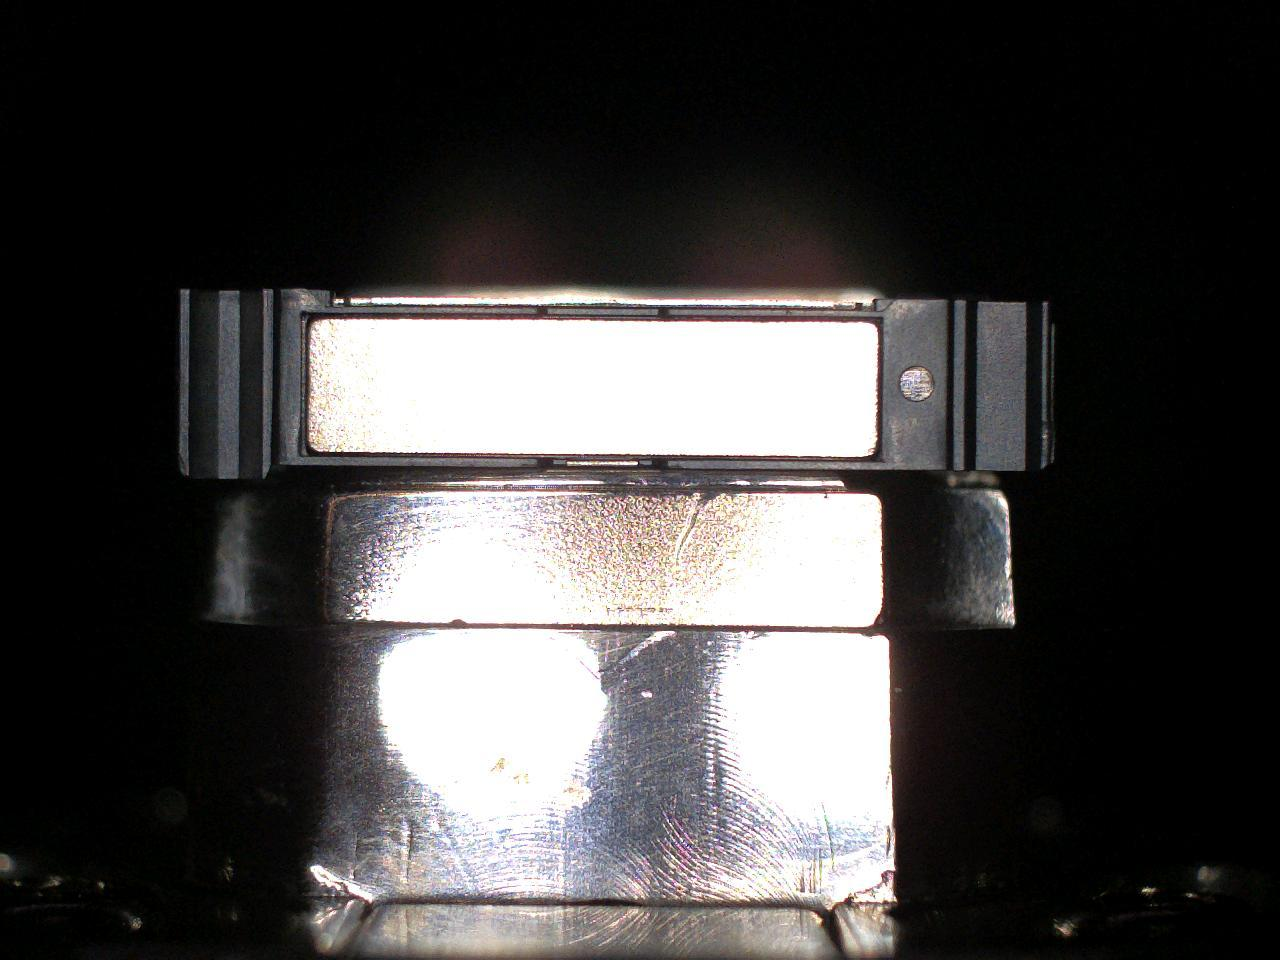frame: (177, 289, 1058, 479)
gap: (307, 452, 537, 460), (669, 316, 883, 323), (303, 314, 538, 320), (667, 457, 881, 463), (547, 315, 659, 321), (553, 456, 653, 460)
magnetic: (308, 320, 880, 458)
